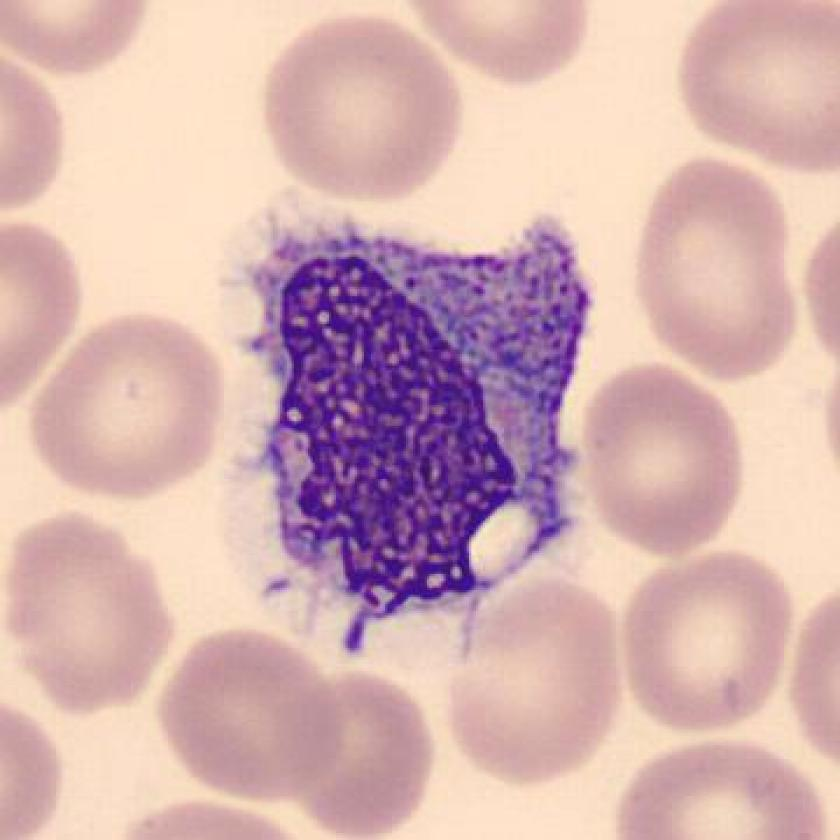monocyte: (197, 170, 617, 672)
